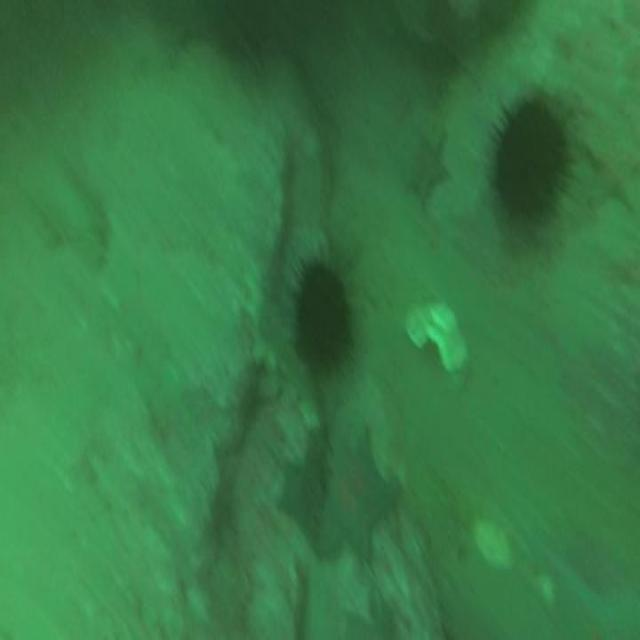echinus: (495, 103, 566, 223), (297, 266, 352, 368)
starfish: (322, 424, 392, 553), (277, 463, 321, 542), (407, 128, 447, 202)
